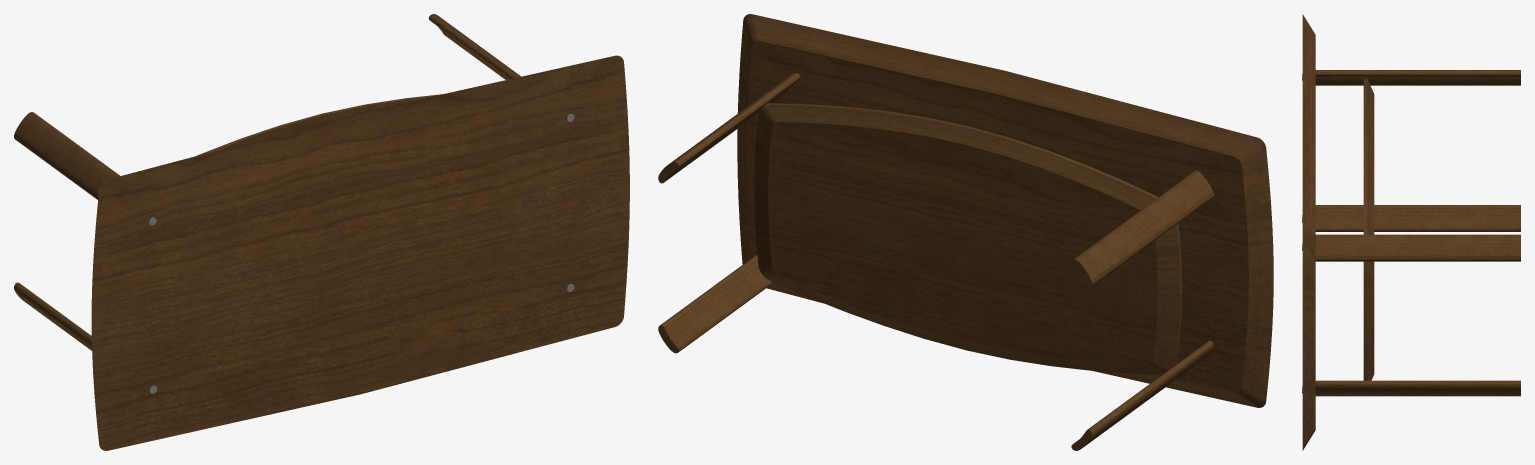
Rendered from tbl012.obj.
The picture shows the model from 3 angles, left to right: view 1: azimuth 30°, elevation 25°; view 2: azimuth 150°, elevation 25°; view 3: azimuth 270°, elevation 25°; orthographic projection. The views are drawn at different scales.
Visible parts, largest first — view 1: Rectangle2, Arc11, Rectangle0, Arc13, Arc09; view 2: Rectangle1, Rectangle2, Arc11, Arc07, Arc09, Arc13, Rectangle0; view 3: Rectangle2, Arc13, Arc09, Arc07, Arc11, Rectangle1, Rectangle0.
Part boxes in pixels (left/top/right/bottom): Rectangle2: left=91, top=55, right=629, bottom=450; Arc11: left=14, top=112, right=119, bottom=199; Rectangle0: left=197, top=94, right=441, bottom=155; Arc13: left=428, top=14, right=520, bottom=79; Arc09: left=14, top=282, right=91, bottom=350; Rectangle1: left=754, top=104, right=1179, bottom=374; Rectangle2: left=737, top=14, right=1273, bottom=407; Arc11: left=1071, top=170, right=1213, bottom=287; Arc07: left=658, top=254, right=773, bottom=353; Arc09: left=1071, top=340, right=1213, bottom=450; Arc13: left=658, top=73, right=800, bottom=183; Rectangle0: left=754, top=103, right=1182, bottom=374; Rectangle2: left=1302, top=14, right=1315, bottom=450; Arc13: left=1315, top=234, right=1520, bottom=261; Arc09: left=1315, top=205, right=1520, bottom=231; Arc07: left=1315, top=380, right=1520, bottom=396; Arc11: left=1315, top=70, right=1520, bottom=85; Rectangle1: left=1367, top=79, right=1374, bottom=380; Rectangle0: left=1363, top=78, right=1367, bottom=380.
Bounding box in the file's own units: 1200 × 600 × 503.
2 materials, 1 textured.
